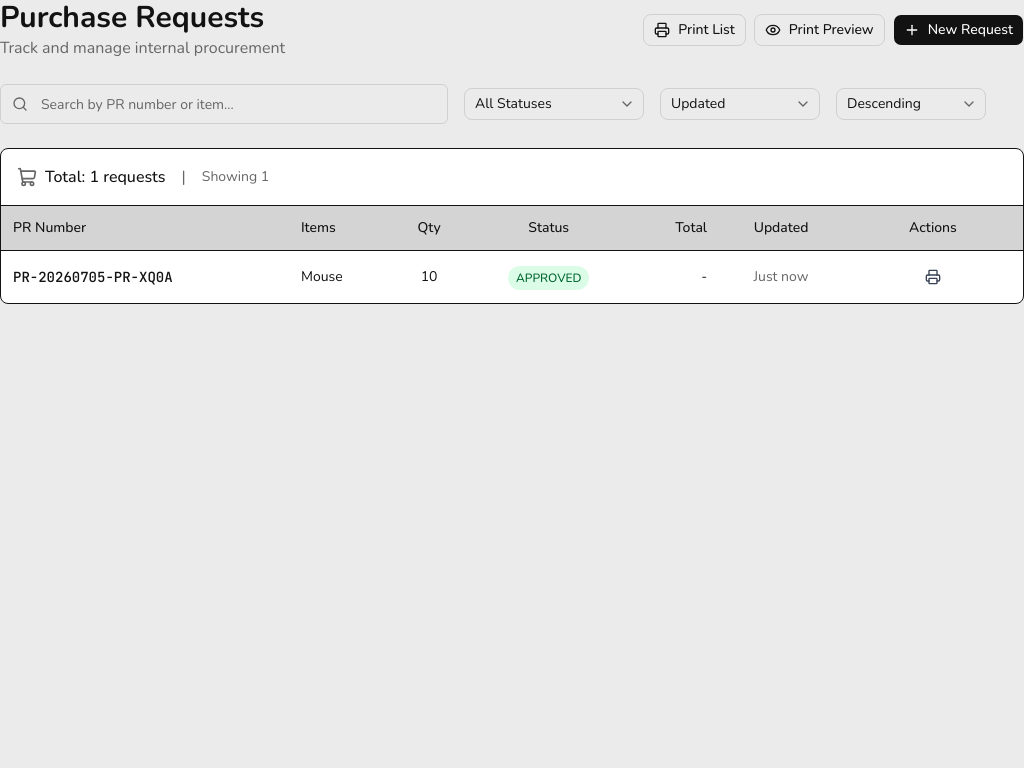
Test: PurchaseRequestsClient › opens print preview when print button clicked on APPROVED row
Click the button titled "Print Request Letter" at [933, 277], box [919,263,947,291]
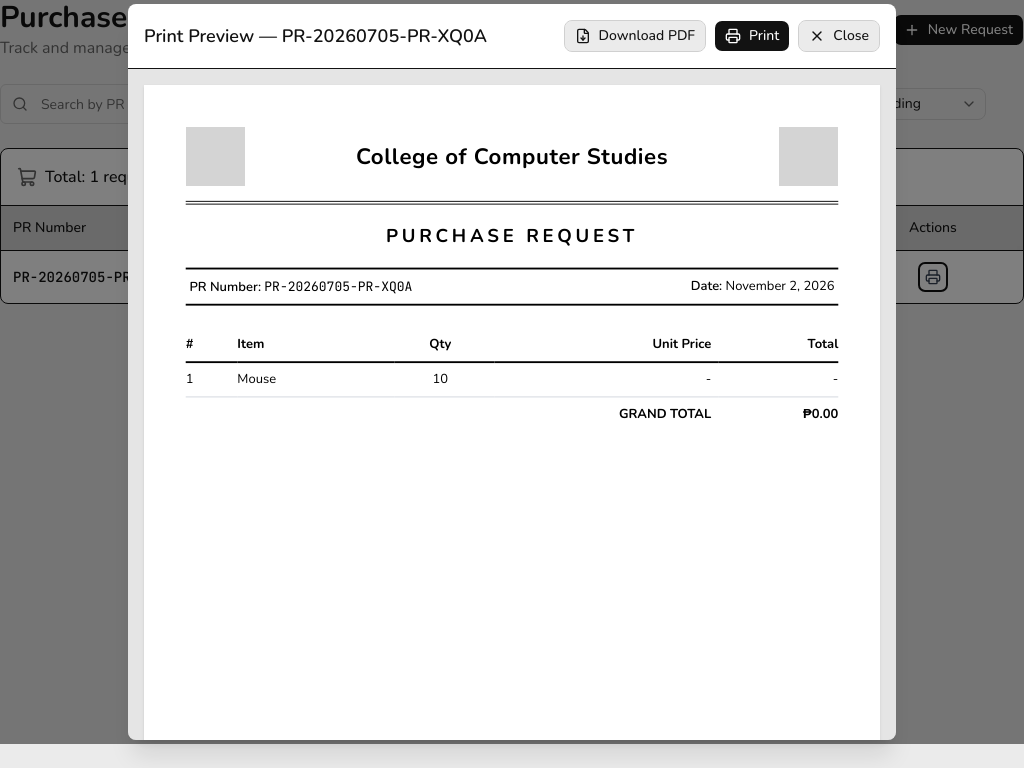
Expected: the dialog is shown
Expected: the heading "Print Preview" is shown, [144,24,487,48]
